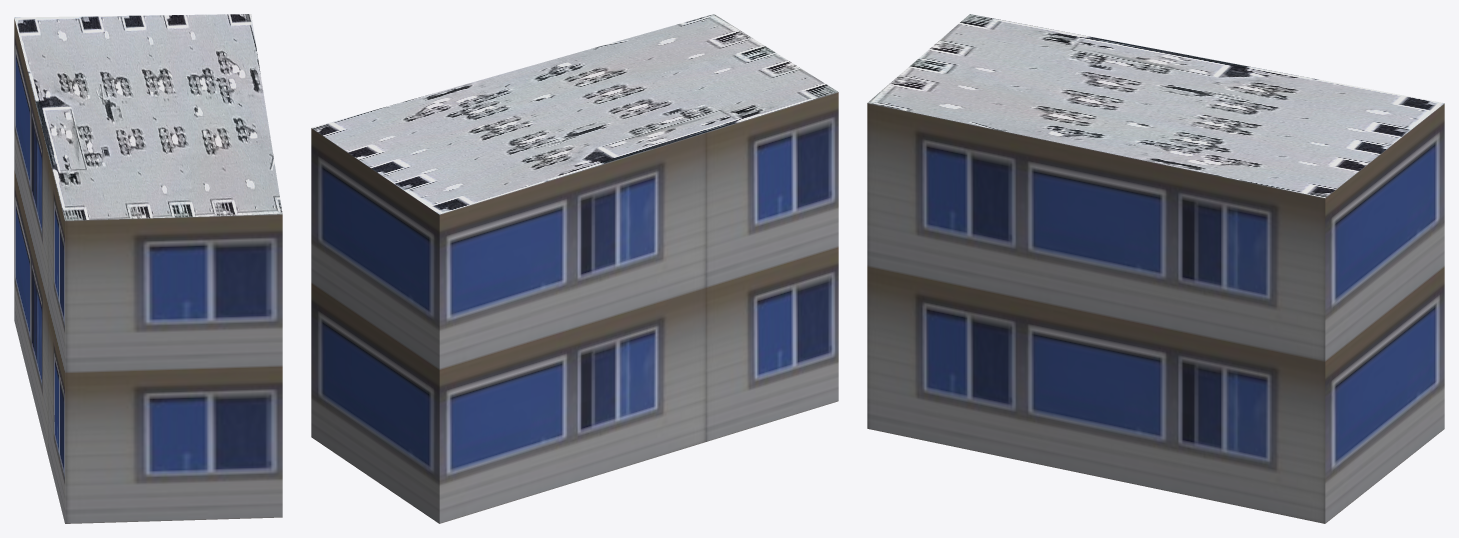
Rendered from ResTex__887.fbx.
3 renders of one model, left to right at view 1: azimuth 30°, elevation 25°; view 2: azimuth 150°, elevation 25°; view 3: azimuth 270°, elevation 25°, orthographic. The views are drawn at different scales.
Parts seen in each view (by area): view 1: CityEngineMaterial_23_m, CityEngineMaterial_m; view 2: CityEngineMaterial_23_m, CityEngineMaterial_m; view 3: CityEngineMaterial_23_m, CityEngineMaterial_m.
Boxes of the visible parts, left/top/right/bottom form: CityEngineMaterial_23_m: left=14, top=18, right=282, bottom=523; CityEngineMaterial_m: left=14, top=14, right=282, bottom=220; CityEngineMaterial_23_m: left=311, top=92, right=838, bottom=523; CityEngineMaterial_m: left=312, top=14, right=837, bottom=214; CityEngineMaterial_23_m: left=867, top=103, right=1444, bottom=523; CityEngineMaterial_m: left=867, top=14, right=1444, bottom=197.
Size of the model in its own units: 7.28 by 6 by 9.64.
Materials: 2 (2 with a texture image).
